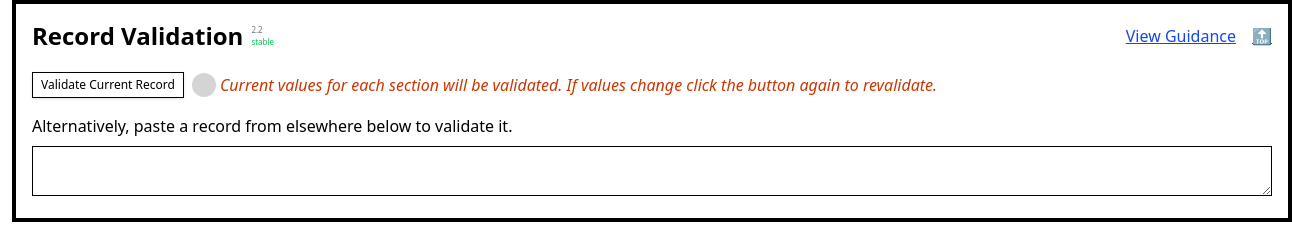
Scenario: RecordValidation › renders correctly with a valid current record
// click validation-use-current button
What coordinates should you click on to do the following:
click the button "Validate Current Record"
I would click on:
 (108, 85)
Its box is [32, 72, 184, 98].
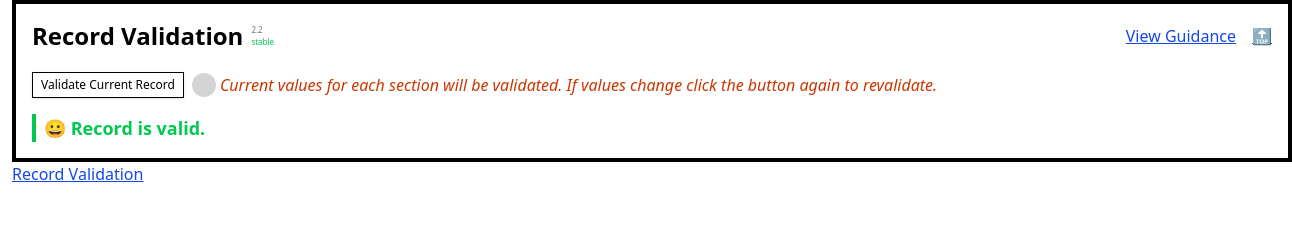
Now the text "😀 Record is valid." is shown, box [32, 114, 1272, 142]
